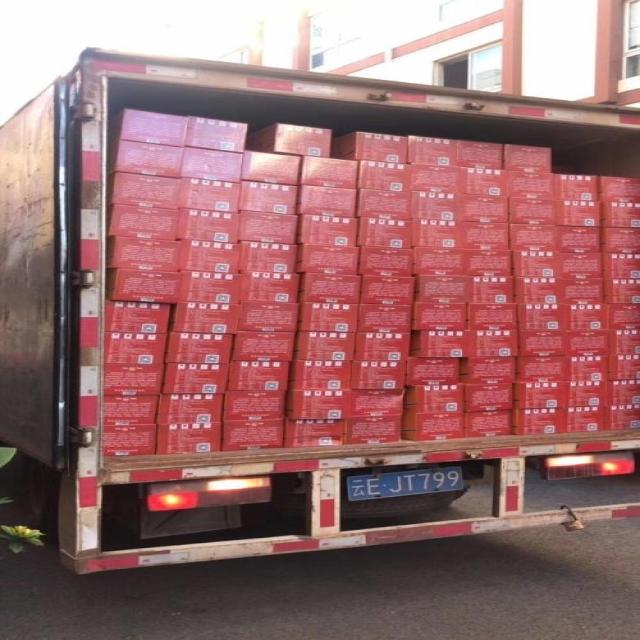box: (108, 107, 189, 147), (246, 122, 333, 158), (108, 140, 184, 179), (106, 171, 179, 209), (106, 235, 180, 272), (106, 204, 178, 240), (106, 269, 180, 304), (330, 131, 407, 163), (184, 115, 248, 153), (168, 302, 239, 335), (179, 177, 241, 214), (180, 146, 243, 182), (104, 299, 170, 333), (160, 363, 229, 395), (177, 208, 238, 244), (165, 332, 233, 364), (241, 150, 302, 185), (155, 422, 221, 454), (298, 271, 361, 304), (178, 271, 239, 305), (104, 331, 166, 364), (300, 155, 360, 189), (238, 210, 298, 244), (221, 419, 284, 451), (239, 181, 298, 215), (180, 240, 239, 274), (155, 394, 224, 423), (296, 244, 358, 276), (230, 330, 294, 361), (223, 390, 287, 421), (296, 185, 356, 218), (239, 240, 297, 274), (239, 271, 300, 303), (287, 360, 352, 390), (284, 390, 351, 419), (296, 215, 358, 246), (296, 302, 358, 333), (238, 301, 298, 333), (225, 361, 289, 391), (104, 364, 165, 395), (403, 384, 465, 414), (293, 332, 357, 361), (401, 412, 465, 441), (284, 419, 348, 447), (101, 395, 160, 425), (356, 218, 413, 249), (100, 424, 155, 456), (356, 189, 412, 220), (356, 161, 410, 192), (358, 276, 415, 305), (358, 247, 413, 277), (413, 275, 474, 302), (407, 135, 458, 167), (348, 389, 406, 417), (408, 330, 468, 357), (357, 304, 412, 333), (346, 415, 401, 444), (410, 163, 461, 194), (411, 302, 467, 330), (351, 361, 407, 389), (458, 357, 516, 384), (412, 248, 467, 276), (355, 333, 410, 361), (512, 407, 567, 435), (412, 220, 465, 249), (512, 382, 567, 409), (467, 329, 520, 357), (513, 356, 570, 382), (410, 191, 461, 220), (406, 357, 458, 385), (503, 144, 552, 173), (461, 167, 508, 197), (462, 220, 509, 250), (506, 170, 554, 199), (461, 194, 509, 223), (465, 383, 513, 412), (457, 140, 503, 170), (509, 224, 558, 252), (513, 276, 562, 304), (552, 173, 599, 202), (467, 303, 517, 330), (508, 197, 556, 225), (465, 410, 512, 438), (511, 251, 561, 277), (517, 330, 567, 356), (554, 200, 602, 227), (465, 249, 512, 276), (517, 303, 564, 330), (557, 225, 602, 253), (564, 330, 611, 356), (559, 252, 603, 279), (563, 305, 609, 330), (599, 175, 640, 203), (562, 278, 604, 305), (567, 407, 609, 433), (472, 276, 513, 302), (567, 356, 608, 382), (599, 202, 640, 227), (567, 382, 608, 407), (602, 227, 640, 253), (602, 253, 640, 279), (603, 279, 640, 304), (607, 380, 640, 407), (608, 404, 640, 431), (608, 304, 640, 330), (608, 355, 640, 381), (609, 330, 640, 356), (553, 164, 573, 175)
